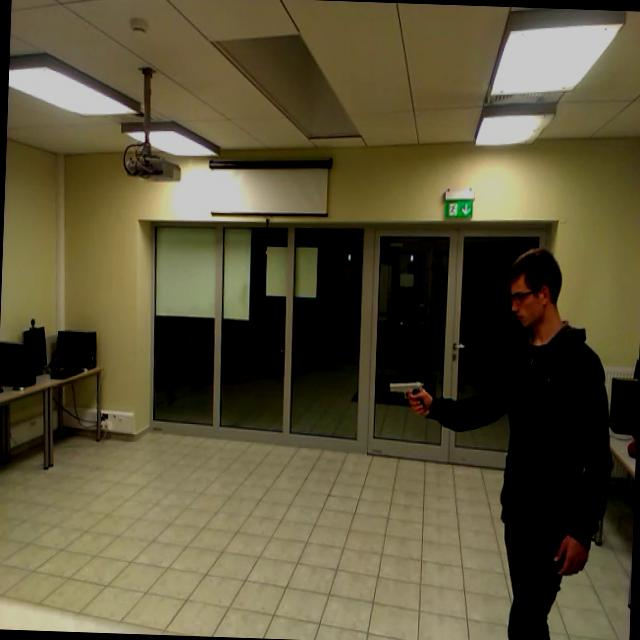handgun: (370, 372, 436, 424)
